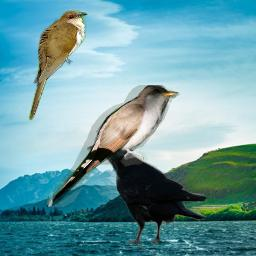Crow: (87, 141, 207, 250)
Cuckoo: (47, 85, 180, 207), (28, 10, 88, 121)
